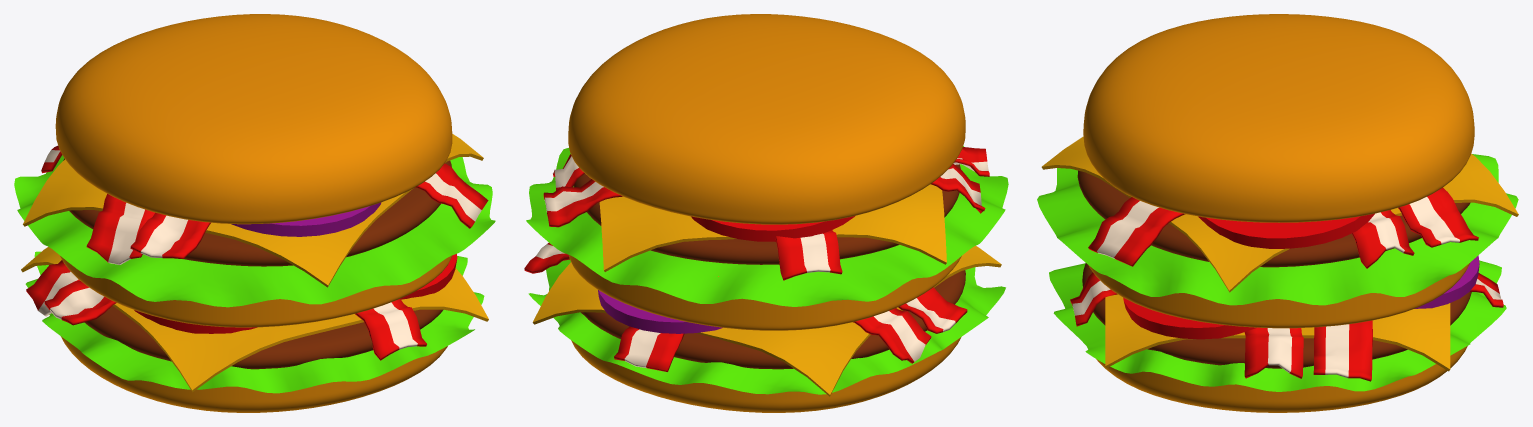
The model's file is hamburger.glb.
3 views of the same model, side by side, from view 1: azimuth 30°, elevation 25°; view 2: azimuth 150°, elevation 25°; view 3: azimuth 270°, elevation 25° (orthographic).
Visible parts, largest first — view 1: bunUp, Plane, Plane.001, cheese, cheese.1, bunMiddle, bunBottom, meat, meat.1, bacon2, bacon1, bacon3 (+6 smaller); view 2: bunUp, Plane, Plane.001, cheese.1, bunMiddle, cheese, bunBottom, meat, meat.1, bacon2, bacon5, bacon (+5 smaller); view 3: bunUp, Plane, Plane.001, bunMiddle, bunBottom, cheese.1, cheese, meat.1, tomato1, meat, bacon, bacon5 (+6 smaller).
Part boxes in pixels (box(x1,y1,x2,y2)): bunUp: box(55, 14, 452, 224); Plane: box(14, 155, 495, 307); Plane.001: box(25, 251, 484, 393); cheese: box(21, 247, 488, 392); cheese.1: box(23, 134, 483, 287); bunMiddle: box(60, 255, 452, 327); bunBottom: box(61, 336, 447, 412); meat: box(84, 306, 443, 369); meat.1: box(63, 158, 451, 266); bacon2: box(86, 194, 154, 264); bacon1: box(130, 212, 210, 258); bacon3: box(355, 299, 426, 360); bunUp: box(568, 14, 965, 224); Plane: box(526, 146, 1008, 306); Plane.001: box(528, 259, 1005, 394); cheese.1: box(599, 184, 946, 271); bunMiddle: box(569, 255, 961, 330); cheese: box(532, 245, 1001, 396); bunBottom: box(571, 337, 961, 412); meat: box(581, 270, 965, 369); meat.1: box(574, 164, 960, 264); bacon2: box(543, 164, 985, 227); bacon5: box(524, 243, 931, 363); bacon: box(775, 230, 842, 280); bunUp: box(1083, 14, 1474, 222); Plane: box(1037, 154, 1518, 305); Plane.001: box(1049, 260, 1506, 391); bunMiddle: box(1088, 262, 1470, 328); bunBottom: box(1096, 346, 1467, 412); cheese.1: box(1041, 136, 1518, 292); cheese: box(1105, 294, 1450, 371); meat.1: box(1077, 170, 1470, 267); tomato1: box(1198, 213, 1374, 248); meat: box(1082, 263, 1471, 368); bacon: box(1088, 197, 1185, 266); bacon5: box(1313, 320, 1372, 381).
Size of the model in its own units: 11.13 by 7.35 by 11.24.
